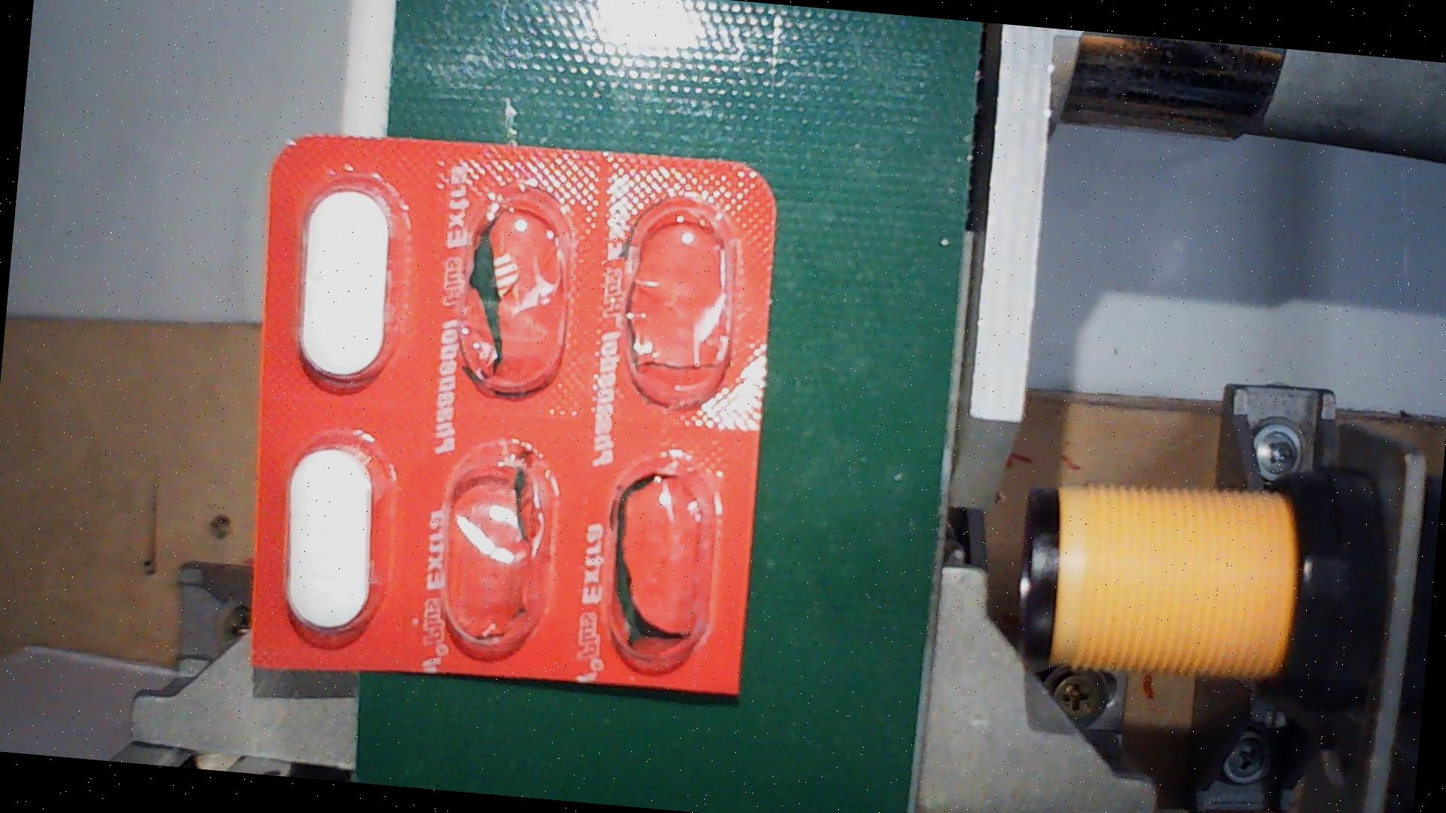Empty: (426, 432, 569, 667), (443, 171, 586, 405), (608, 187, 751, 421), (587, 443, 730, 677)
Full: (276, 163, 419, 398), (262, 420, 404, 654)
